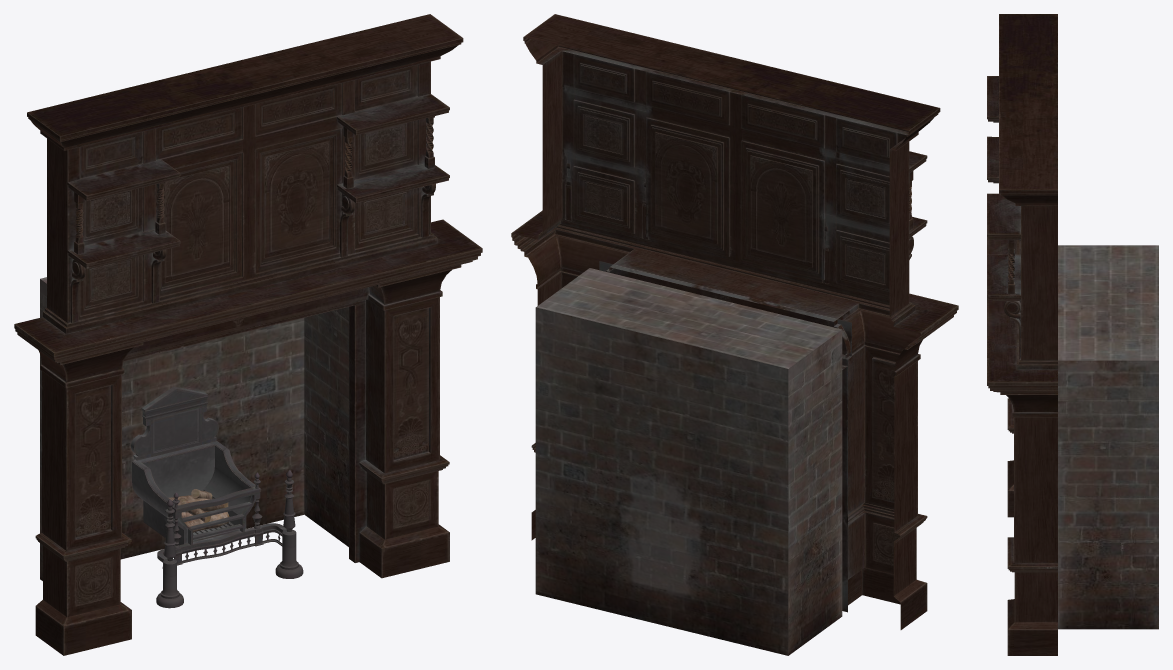
Rendered from fireplace-overmantel.glb.
3 views of the same model, side by side, from view 1: azimuth 30°, elevation 25°; view 2: azimuth 150°, elevation 25°; view 3: azimuth 270°, elevation 25° (orthographic). The views are drawn at different scales.
Visible parts, largest first — view 1: fireplace-overmantel; view 2: fireplace-overmantel; view 3: fireplace-overmantel.
Part boxes in pixels (box(x1,y1,x2,y2)): fireplace-overmantel: box(14, 14, 482, 655); fireplace-overmantel: box(511, 14, 958, 655); fireplace-overmantel: box(987, 14, 1158, 655).
Bounding box in the file's own units: 2.05 × 2.39 × 0.7941.
Materials: 1 (1 with a texture image).
